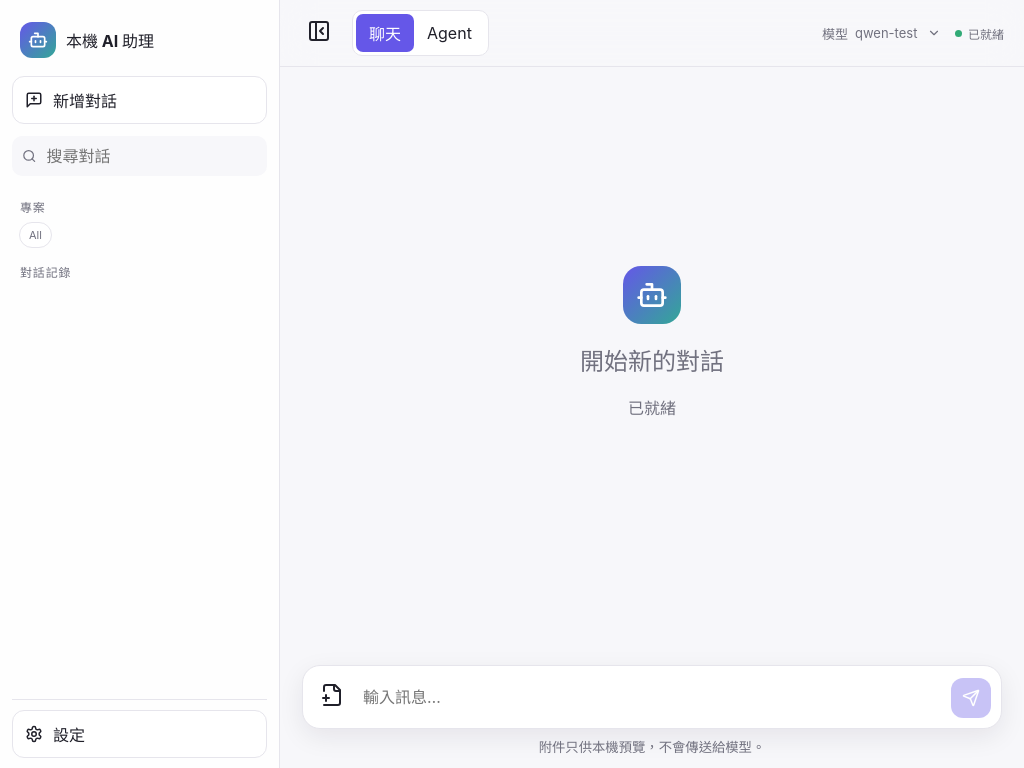
Test: modern desktop › shows the build version and service and execution boundaries in zh-TW
The width and height of the screenshot is (1024, 768).
Click the button "設定". click: (140, 734)
box: top-left (12, 710), bottom-right (267, 758)
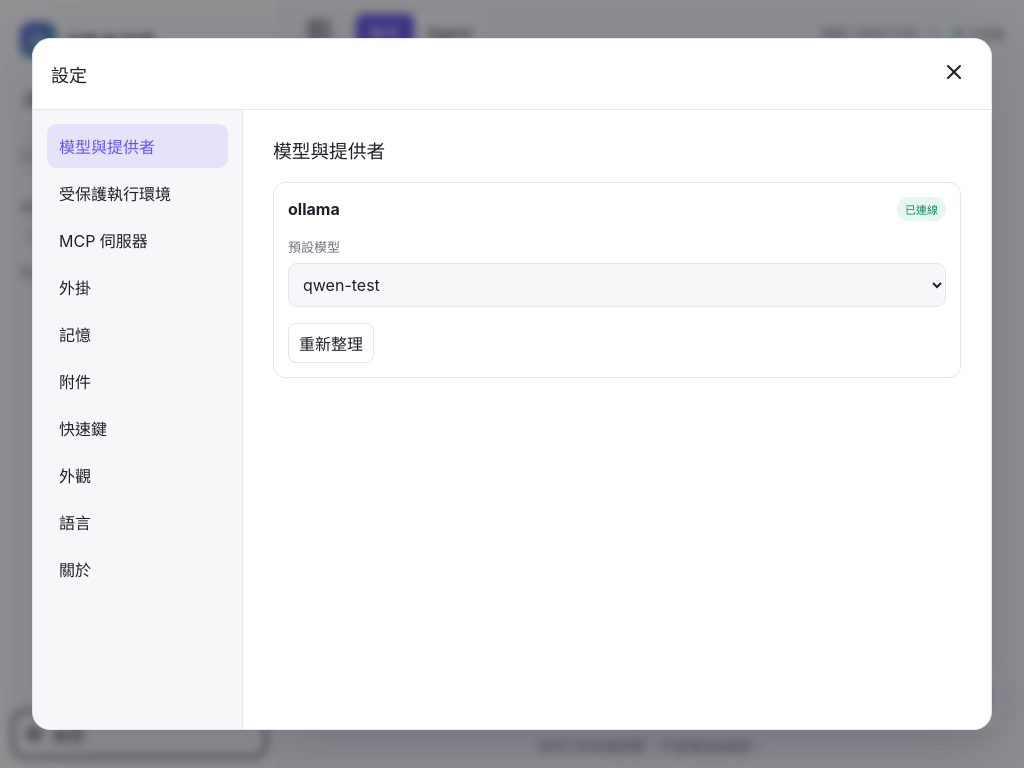
Click the button "關於". click: (138, 569)
box: top-left (47, 547), bottom-right (228, 591)
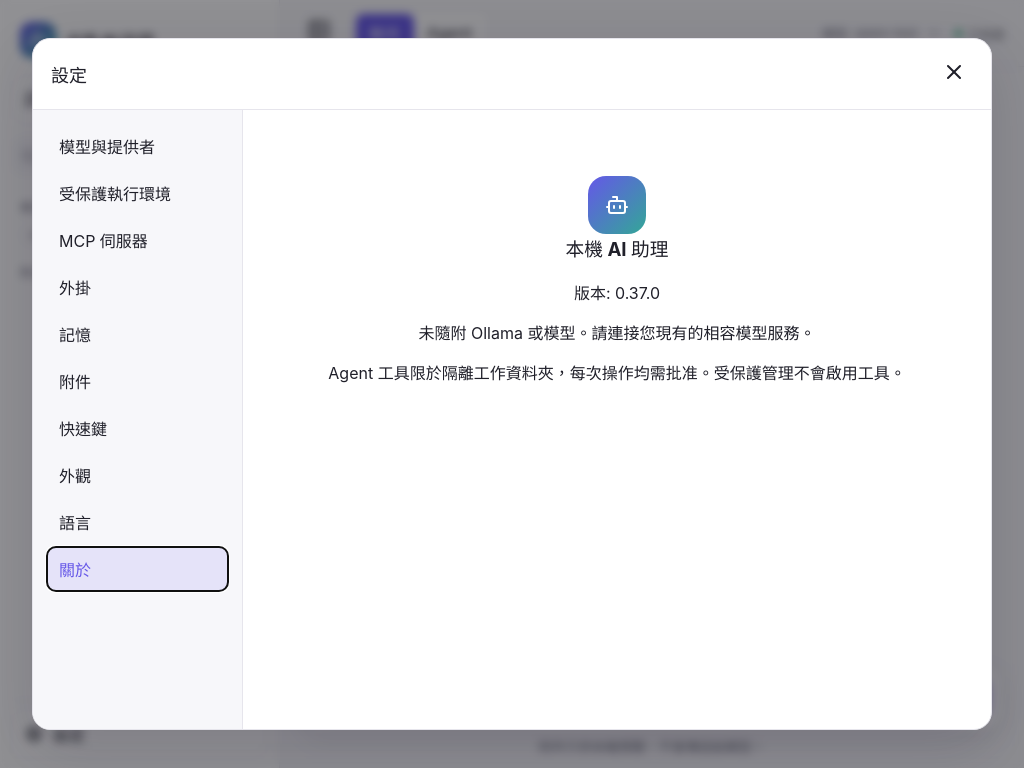
Check: the text "未隨附 Ollama 或模型。請連接您現有的相容模型服務。" is shown, box top-left (418, 323), bottom-right (816, 343)
Check: the text "Agent 工具限於隔離工作資料夾，每次操作均需批准。受保護管理不會啟用工具。" is shown, box top-left (313, 360), bottom-right (921, 384)
